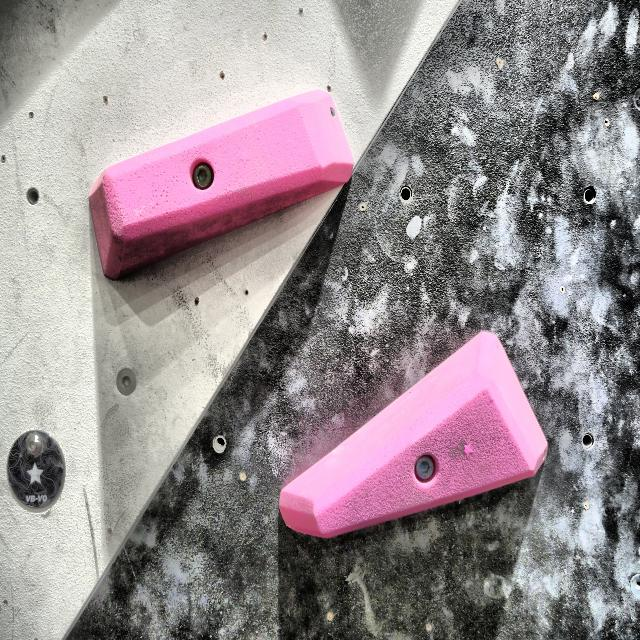Hold: (268, 318, 566, 542), (82, 74, 364, 288)
